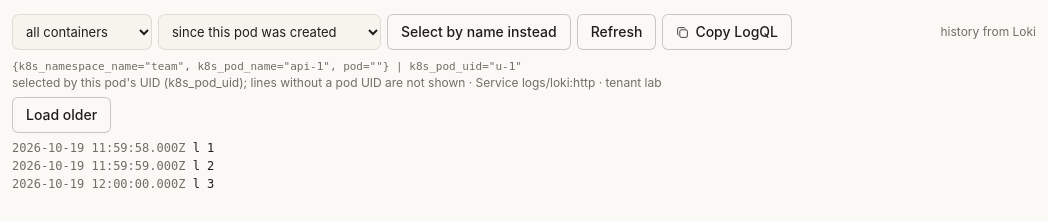
Test: LogHistoryPane (coverage S8b §7) › says the selector and its strength, holds pages oldest first, and loads older
Expected: the text with test id "history-strength" shows "selected by this pod's UID", [12, 75, 465, 90]
Expected: the element with test id "history-selector" shows "k8s_pod_uid=\"u-1\"", [12, 60, 522, 73]
Click the button with test id "history-older".
click(62, 115)  # box [12, 97, 111, 133]
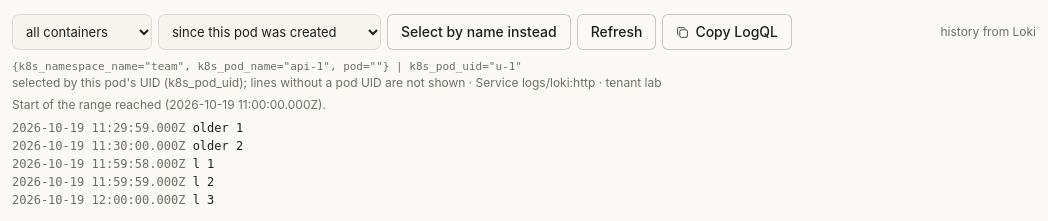
Expected: the text with test id "history-start" shows "Start of the range reached", [12, 97, 169, 112]
